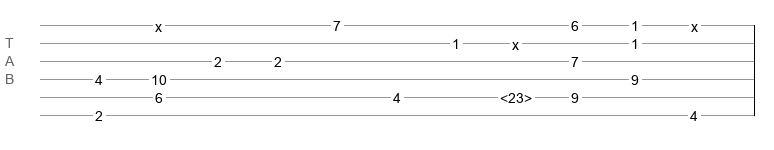1: (452, 36, 460, 46), (631, 36, 639, 46), (631, 18, 639, 28)
10: (151, 72, 167, 82)
2: (95, 108, 103, 118), (214, 54, 222, 64), (274, 54, 282, 64)
4: (95, 72, 103, 82), (393, 90, 401, 100), (690, 108, 698, 118)
6: (155, 90, 163, 100), (571, 18, 579, 28)
7: (333, 18, 341, 28), (571, 54, 579, 64)
9: (571, 90, 579, 100), (631, 72, 639, 82)
harmonic: (500, 90, 532, 100)
x: (155, 19, 162, 27), (512, 37, 519, 45), (691, 19, 698, 27)
